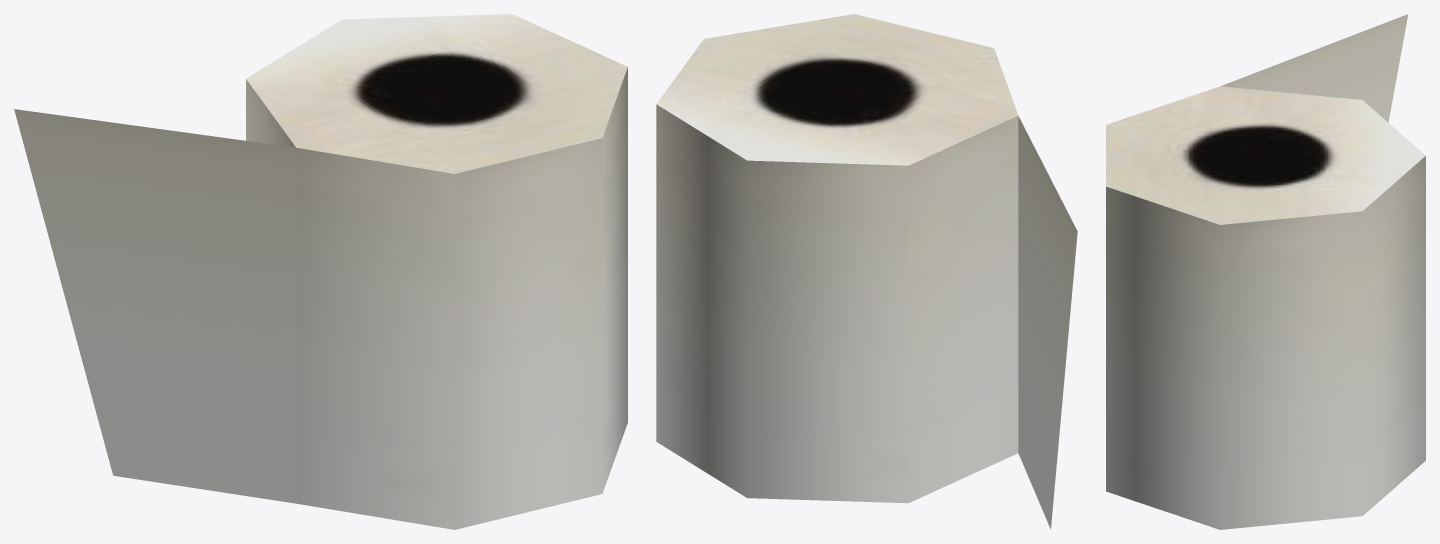
File: Toilet_paper_01-col.glb
3 renders of one model, left to right at view 1: azimuth 30°, elevation 25°; view 2: azimuth 150°, elevation 25°; view 3: azimuth 270°, elevation 25°, orthographic. The views are drawn at different scales.
Parts seen in each view (by area): view 1: Toilet_paper_01-col; view 2: Toilet_paper_01-col; view 3: Toilet_paper_01-col.
Part boxes in pixels (x1=…): Toilet_paper_01-col: x1=14, y1=14, x2=627, y2=529; Toilet_paper_01-col: x1=656, y1=14, x2=1077, y2=529; Toilet_paper_01-col: x1=1106, y1=14, x2=1425, y2=529.
Bounding box in the file's own units: 0.2174 × 0.1469 × 0.1395.
1 material, 1 textured.
